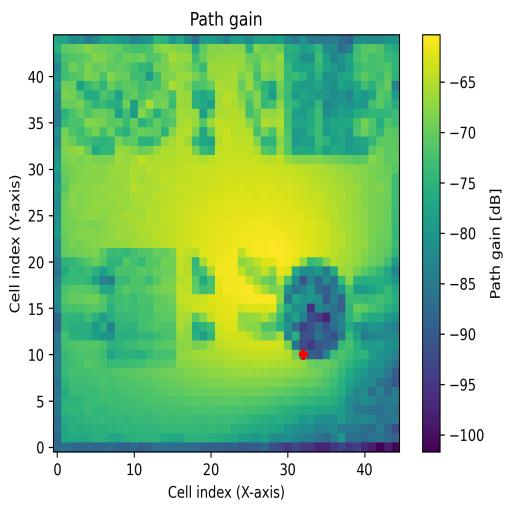Concrete: (285, 52, 376, 156)
Glass: (92, 55, 176, 155)
Metal: (284, 257, 347, 359)
Wood: (100, 247, 176, 368)
